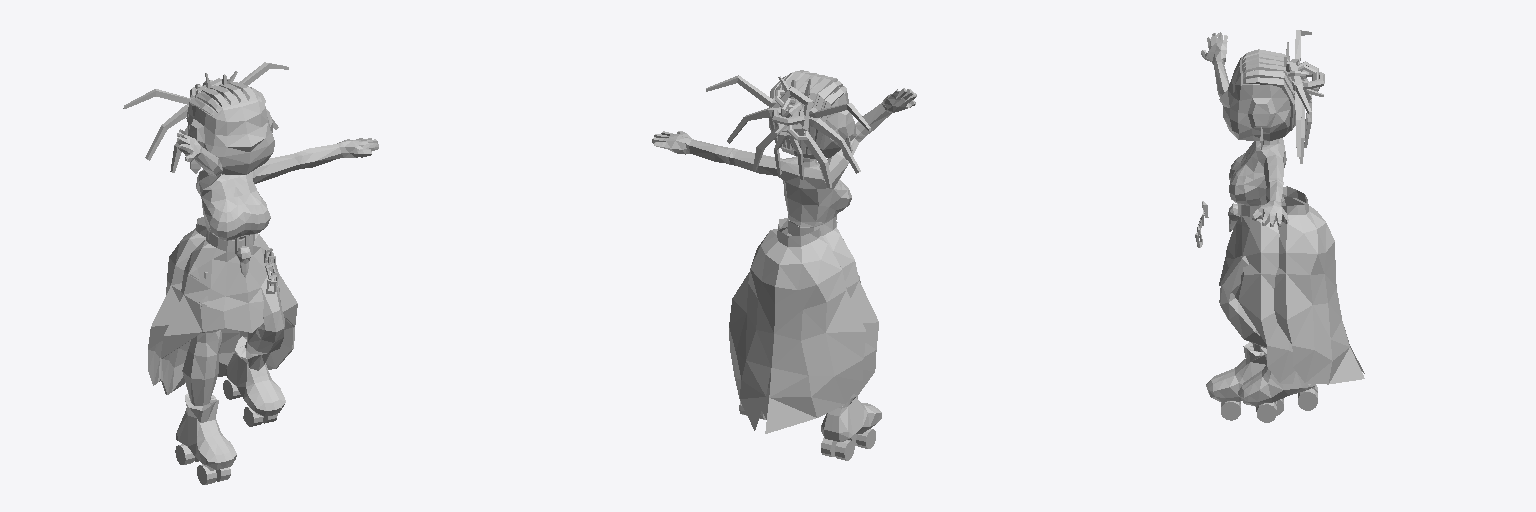
The model's file is WitchFINAL_000023.obj.
3 views of the same model, side by side, from view 1: azimuth 30°, elevation 25°; view 2: azimuth 150°, elevation 25°; view 3: azimuth 270°, elevation 25° (orthographic).
Parts seen in each view (by area): view 1: Body_Cylinder, Torso(Boobies)_Cylinder.002, LegR_Cube.004, LegL_Cube.003, Head_Cylinder.004, ZBody_Cylinder.001, Hair_Cylinder.006, Tail.001_Torus.001; view 2: ZBody_Cylinder.001, Torso(Boobies)_Cylinder.002, Body_Cylinder, LegR_Cube.004, Hair_Cylinder.006, Tail.001_Torus.001, Tail_Torus, Tail.002_Torus.002, Head_Cylinder.004; view 3: ZBody_Cylinder.001, Body_Cylinder, Torso(Boobies)_Cylinder.002, LegL_Cube.003, Head_Cylinder.004, LegR_Cube.004, Hair_Cylinder.006, Tail_Torus, Tail.002_Torus.002.
Boxes of the visible parts, box(x1,y1,x2,y2) form: Body_Cylinder: box(160, 230, 297, 394); Torso(Boobies)_Cylinder.002: box(177, 129, 378, 240); LegR_Cube.004: box(175, 272, 236, 484); LegL_Cube.003: box(223, 271, 285, 426); Head_Cylinder.004: box(188, 84, 274, 174); ZBody_Cylinder.001: box(148, 217, 206, 385); Hair_Cylinder.006: box(186, 82, 265, 125); Tail.001_Torus.001: box(123, 89, 194, 172); ZBody_Cylinder.001: box(729, 218, 866, 433); Torso(Boobies)_Cylinder.002: box(652, 88, 916, 227); Body_Cylinder: box(762, 216, 878, 419); LegR_Cube.004: box(821, 396, 881, 460); Hair_Cylinder.006: box(768, 70, 846, 154); Tail.001_Torus.001: box(787, 103, 870, 187); Tail_Torus: box(772, 76, 813, 139); Tail.002_Torus.002: box(706, 75, 787, 174); Head_Cylinder.004: box(769, 80, 855, 159); ZBody_Cylinder.001: box(1274, 186, 1364, 384); Body_Cylinder: box(1219, 201, 1295, 383); Torso(Boobies)_Cylinder.002: box(1201, 32, 1288, 226); LegL_Cube.003: box(1219, 256, 1317, 422); Head_Cylinder.004: box(1219, 56, 1292, 141); LegR_Cube.004: box(1206, 342, 1283, 420); Hair_Cylinder.006: box(1242, 49, 1302, 130); Tail_Torus: box(1284, 42, 1324, 101); Tail.002_Torus.002: box(1292, 81, 1311, 163).
Bounding box in the file's own units: 10.66 × 16.57 × 6.68.